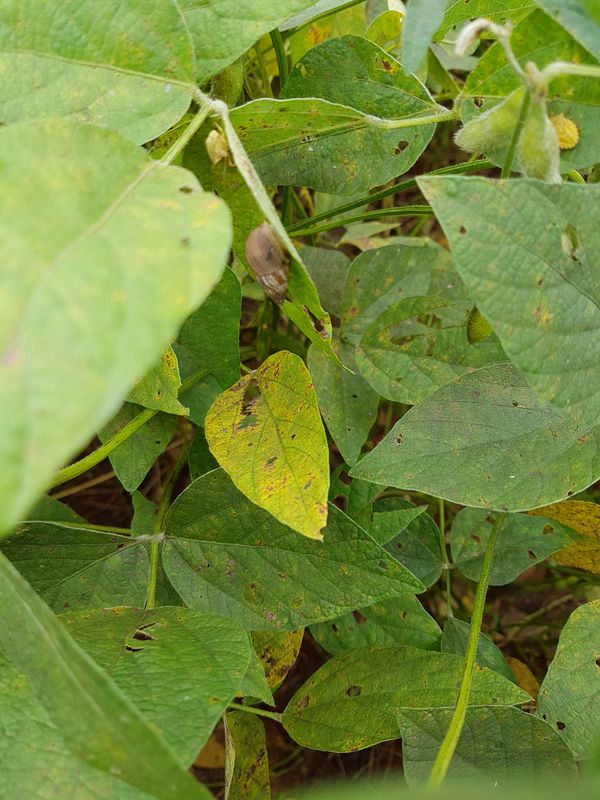Euschistus_heros_ninfa: (195, 118, 241, 169), (540, 107, 584, 155)
Gastropoda: (231, 215, 301, 313)
